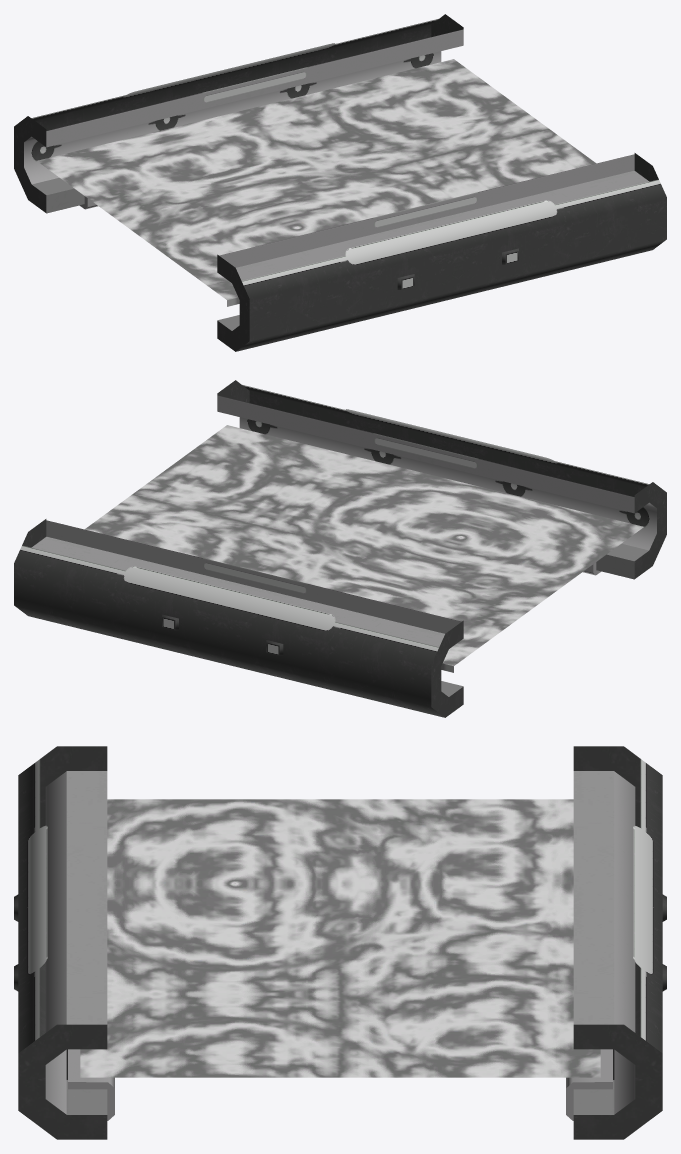
The model's file is belt-mk6.glb.
The picture shows the model from 3 angles, top to bottom: view 1: azimuth 30°, elevation 25°; view 2: azimuth 150°, elevation 25°; view 3: azimuth 270°, elevation 25°; orthographic projection. The views are drawn at different scales.
Parts seen in each view (by area): view 1: SM_ConveyorBelt_Mk6; view 2: SM_ConveyorBelt_Mk6; view 3: SM_ConveyorBelt_Mk6.
Part boxes in pixels (left/top/right/bottom): SM_ConveyorBelt_Mk6: left=14, top=14, right=666, bottom=351; SM_ConveyorBelt_Mk6: left=14, top=380, right=666, bottom=717; SM_ConveyorBelt_Mk6: left=14, top=746, right=666, bottom=1139.
Size of the model in its own units: 2 by 0.4096 by 1.98.
2 materials, 2 textured.
